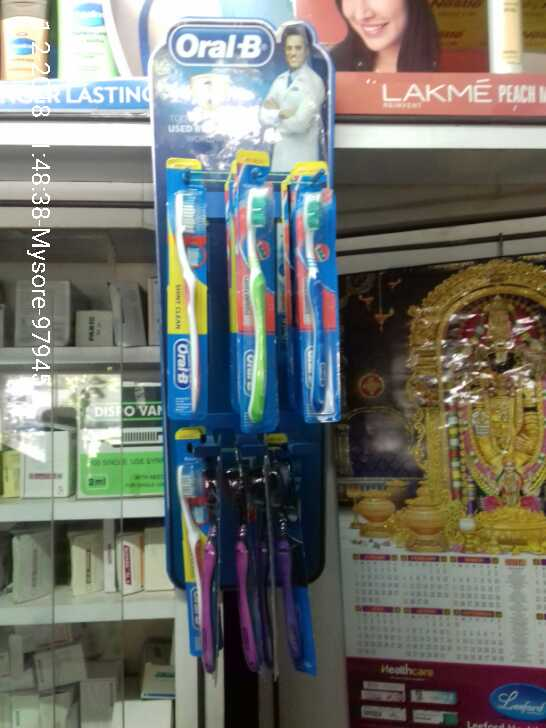oralb: (229, 171, 279, 414), (265, 446, 317, 671), (163, 165, 205, 422), (295, 186, 339, 417), (178, 458, 208, 664), (227, 458, 255, 665)
